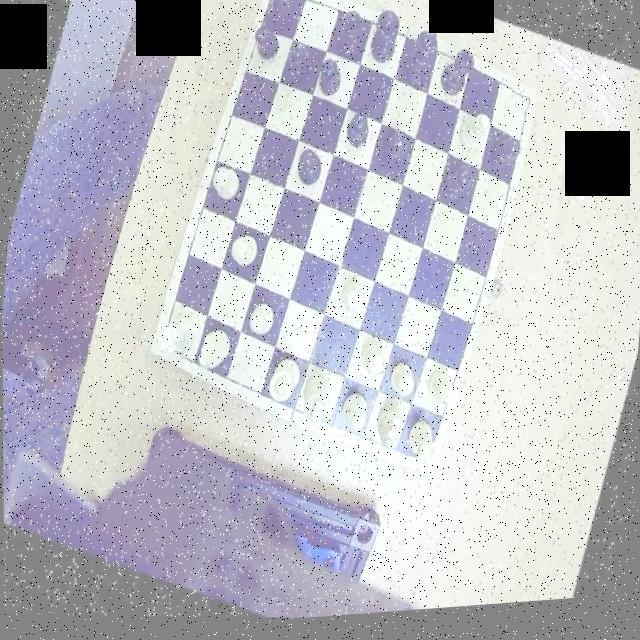chess-table-corners: (150, 324, 188, 367), (399, 442, 436, 482), (508, 84, 539, 122), (262, 0, 297, 21)
